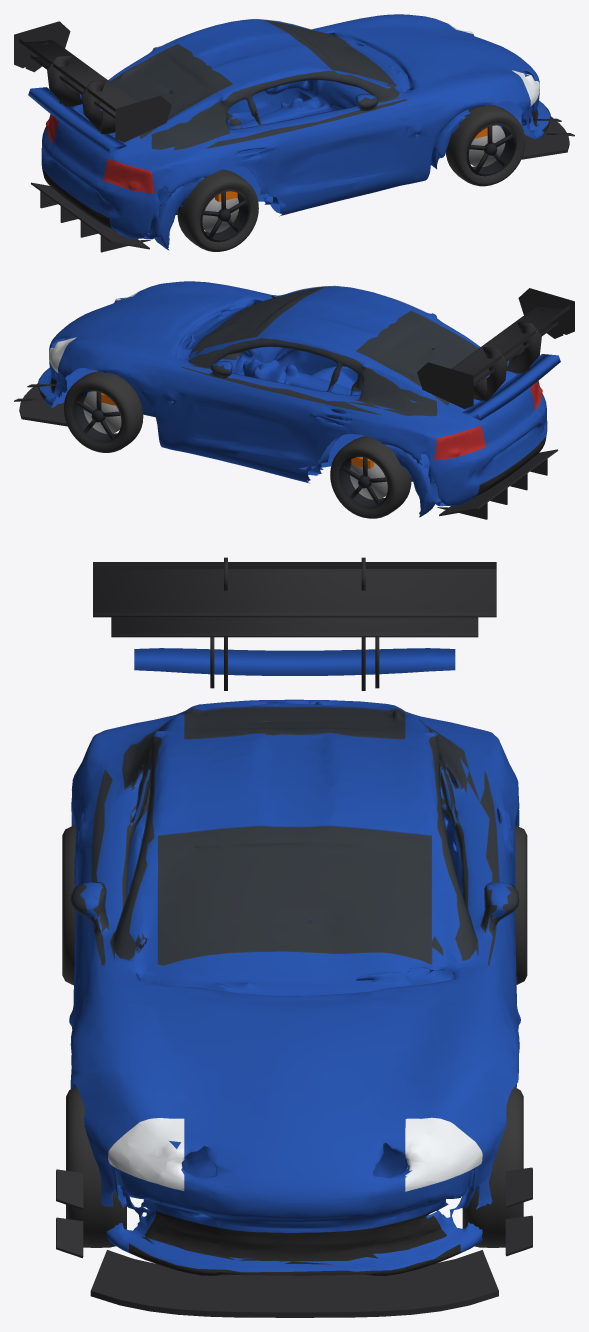
The model's file is alpine_a110_s.glb.
3 views of the same model, one above another, from view 1: azimuth 30°, elevation 25°; view 2: azimuth 150°, elevation 25°; view 3: azimuth 270°, elevation 25° (orthographic). The views are drawn at different scales.
Parts seen in each view (by area): view 1: body, cabin, bumper_rear, wing_rear_up3, wheel_fr_spin, wheel_rr_spin, bumper_front, diffuser, wing_rear, splitter_up, wing_rear_up2, splitter; view 2: body, cabin, bumper_rear, wing_rear_up3, wheel_fl_spin, wheel_rl_spin, bumper_front, diffuser, wing_rear, wing_rear_up2, splitter_up, splitter; view 3: body, bumper_front, cabin, wing_rear_up3, splitter_up, splitter, wing_rear_up2, wing_rear, wheel_fr_spin, wheel_fl_spin, canards, bumper_rear (+2 smaller).
Boxes of the visible parts, left/top/right/bottom form: body: left=79, top=14, right=525, bottom=250; cabin: left=110, top=19, right=406, bottom=149; bumper_rear: left=41, top=104, right=163, bottom=239; wing_rear_up3: left=14, top=21, right=171, bottom=142; wheel_fr_spin: left=446, top=104, right=525, bottom=186; wheel_rr_spin: left=177, top=169, right=258, bottom=251; bumper_front: left=436, top=19, right=550, bottom=140; diffuser: left=31, top=182, right=150, bottom=252; wing_rear: left=28, top=87, right=126, bottom=153; splitter_up: left=521, top=116, right=569, bottom=159; wing_rear_up2: left=25, top=42, right=115, bottom=133; splitter: left=523, top=122, right=562, bottom=154; body: left=63, top=281, right=517, bottom=517; cabin: left=182, top=285, right=478, bottom=415; bumper_rear: left=424, top=371, right=547, bottom=506; wing_rear_up3: left=417, top=288, right=574, bottom=409; wheel_fl_spin: left=64, top=371, right=143, bottom=452; wheel_rl_spin: left=330, top=436, right=411, bottom=518; bumper_front: left=38, top=286, right=153, bottom=407; diffuser: left=437, top=449, right=558, bottom=519; wing_rear: left=462, top=354, right=560, bottom=420; wing_rear_up2: left=473, top=309, right=563, bottom=400; splitter_up: left=19, top=383, right=67, bottom=426; splitter: left=26, top=389, right=65, bottom=420; body: left=69, top=703, right=520, bottom=1177; bumper_front: left=94, top=1091, right=496, bottom=1275; cabin: left=70, top=706, right=519, bottom=964; wing_rear_up3: left=93, top=557, right=496, bottom=690; splitter_up: left=90, top=1250, right=498, bottom=1317; splitter: left=101, top=1253, right=488, bottom=1306; wing_rear_up2: left=111, top=617, right=478, bottom=688; wing_rear: left=134, top=648, right=455, bottom=675; wheel_fr_spin: left=66, top=1086, right=126, bottom=1247; wheel_fl_spin: left=462, top=1087, right=523, bottom=1247; canards: left=56, top=1167, right=532, bottom=1258; bumper_rear: left=102, top=699, right=484, bottom=731.
Bounding box in the file's own units: 4.29 × 1.45 × 1.87.
